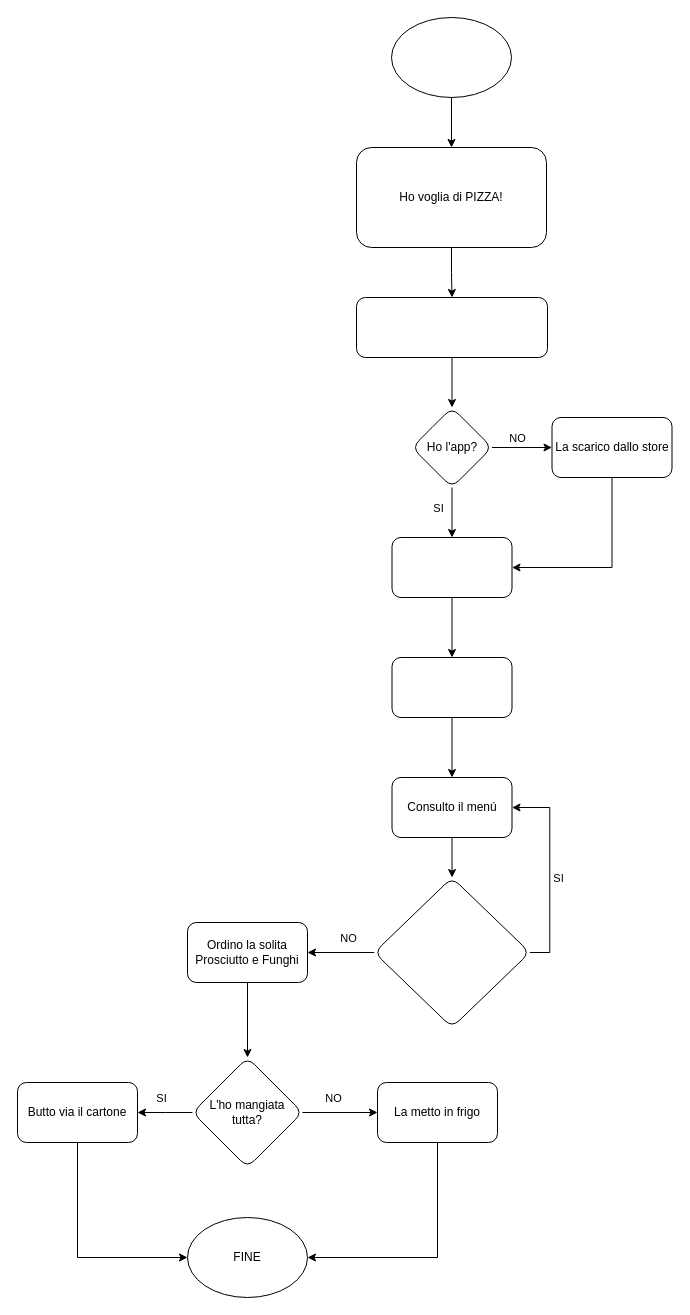
The diagram is 690 pixels wide and 1315 high, and some of its shapes have lost their labels. The shapes that lost their labels are listed below. From the top down, each one's centre as x and y in pixels, then its label:
At [451,57]: "INIZIO".
At [452,327]: "Prendo il telefono".
At [451,567]: "Apro l'app".
At [451,687]: "Trovo il ristorante".
At [451,952]: "Voglio provare una nuova pizza?".
